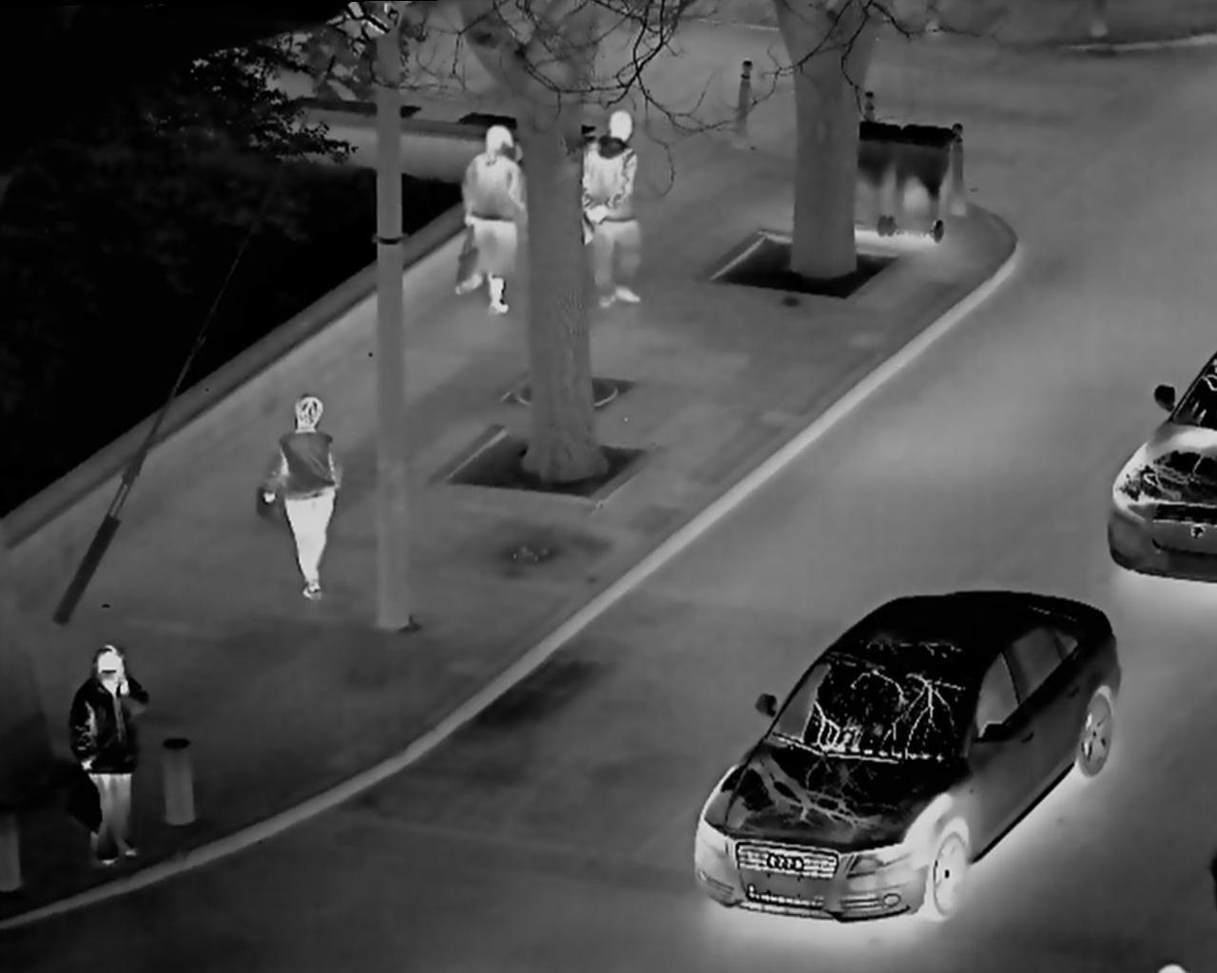person: (64, 636, 163, 863), (256, 386, 348, 598), (579, 101, 666, 316), (451, 104, 530, 319)
